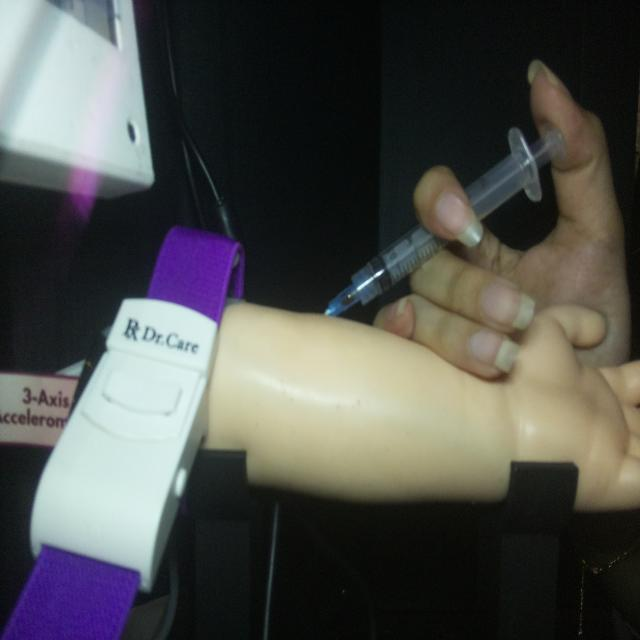27 degrees: (322, 120, 566, 319)
